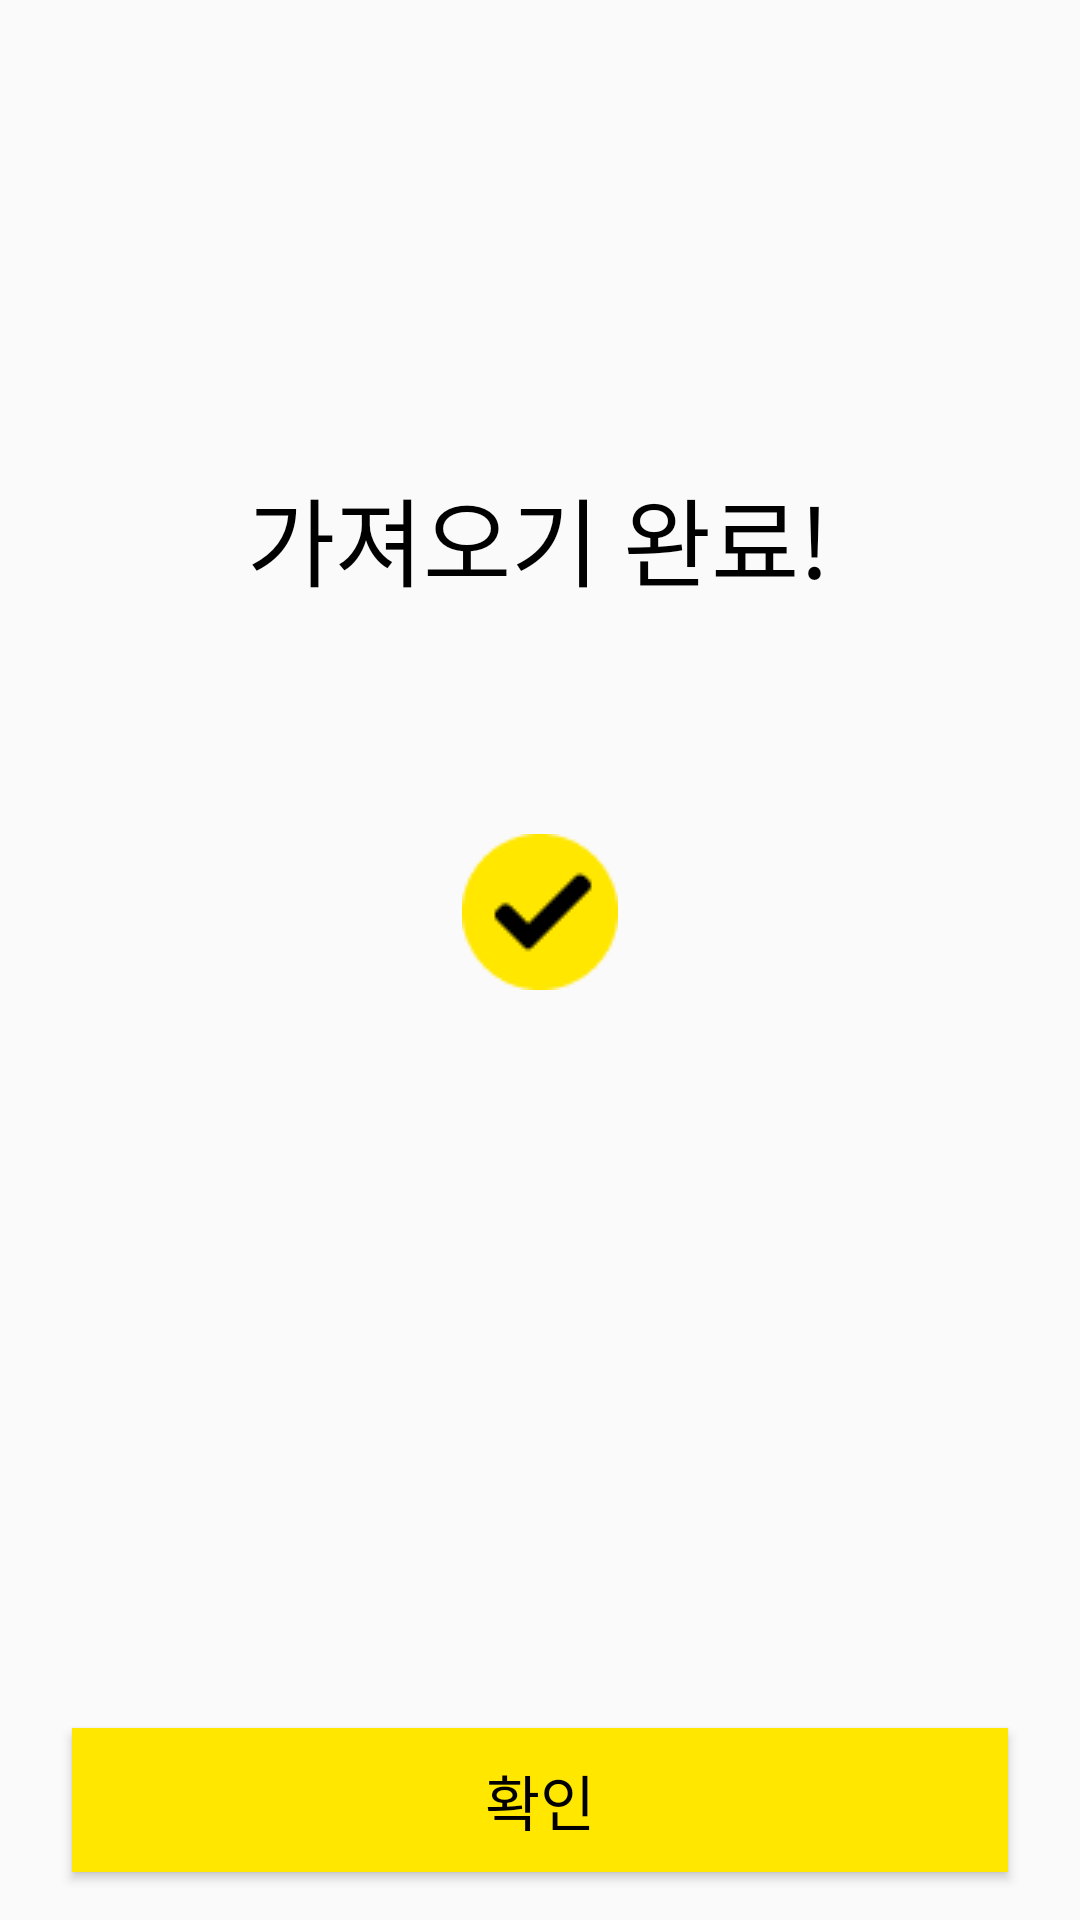

Locate icon controls on the screen. Image size 1080 x 1920, boxes as (x1, y1, x2, y2).
makesuccess: (462, 834, 618, 990)
